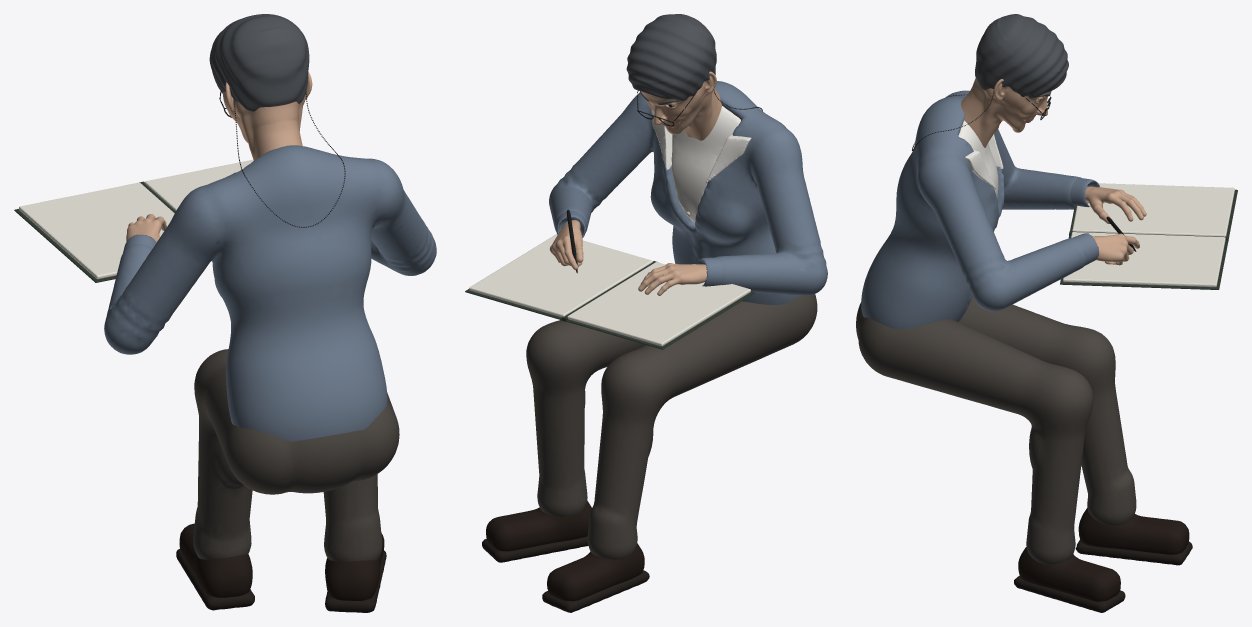
The model's file is bookkeeper_desk.glb.
3 views of the same model, side by side, from view 1: azimuth 30°, elevation 25°; view 2: azimuth 150°, elevation 25°; view 3: azimuth 270°, elevation 25° (orthographic). The views are drawn at different scales.
Visible parts, largest first — view 1: bookkeeper_desk_body, bookkeeper_desk_head, ledger_pages_left, ledger_pages_right, bookkeeper_desk_hands; view 2: bookkeeper_desk_body, bookkeeper_desk_head, ledger_pages_right, ledger_pages_left, bookkeeper_desk_hands, ledger_cover_left; view 3: bookkeeper_desk_body, bookkeeper_desk_head, ledger_pages_left, ledger_pages_right, bookkeeper_desk_hands, ledger_cover_right.
Boxes of the visible parts, x1,y1,x2,y2 form: bookkeeper_desk_body: [104, 145, 436, 612]; bookkeeper_desk_head: [209, 14, 312, 160]; ledger_pages_left: [19, 182, 174, 279]; ledger_pages_right: [144, 159, 253, 210]; bookkeeper_desk_hands: [123, 214, 166, 252]; bookkeeper_desk_body: [482, 81, 827, 612]; bookkeeper_desk_head: [626, 14, 751, 183]; ledger_pages_right: [469, 234, 652, 317]; ledger_pages_left: [567, 262, 750, 346]; bookkeeper_desk_hands: [549, 210, 722, 295]; ledger_cover_left: [564, 291, 754, 349]; bookkeeper_desk_body: [856, 90, 1192, 612]; bookkeeper_desk_head: [961, 14, 1068, 189]; ledger_pages_left: [1072, 183, 1234, 236]; ledger_pages_right: [1063, 232, 1225, 287]; bookkeeper_desk_hands: [1070, 178, 1146, 265]; ledger_cover_right: [1060, 235, 1228, 289].
Bounding box in the file's own units: 0.725 × 1.28 × 0.8418.
